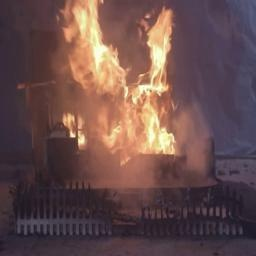fire: (44, 3, 189, 187)
